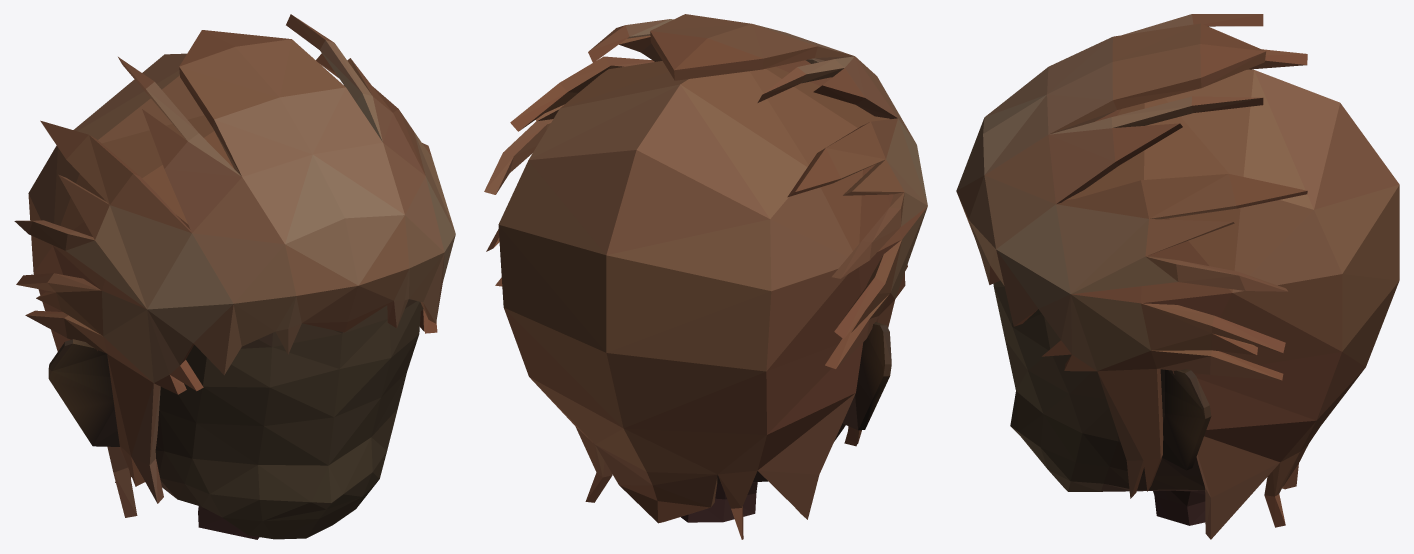
Rendered from helm_darkskin_spike_blonde.fbx.
3 renders of one model, left to right at view 1: azimuth 30°, elevation 25°; view 2: azimuth 150°, elevation 25°; view 3: azimuth 270°, elevation 25°, orthographic.
Visible parts, largest first — view 1: helm_darkskin_spike_blonde; view 2: helm_darkskin_spike_blonde; view 3: helm_darkskin_spike_blonde.
Boxes of the visible parts, bbox=[...] form: helm_darkskin_spike_blonde: bbox=[14, 14, 455, 539]; helm_darkskin_spike_blonde: bbox=[484, 14, 927, 539]; helm_darkskin_spike_blonde: bbox=[956, 14, 1399, 539].
Size of the model in its own units: 1.13 by 1.39 by 1.18.
